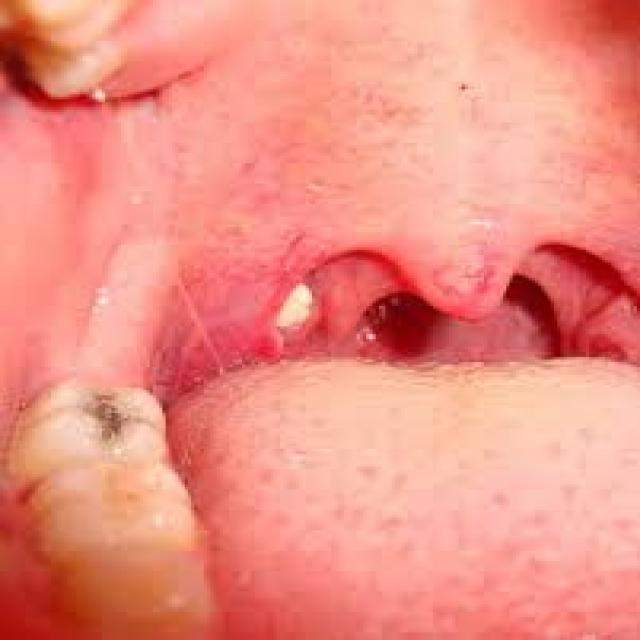processing_area: (0, 0, 637, 637)
ulcer-detection: (58, 172, 200, 380), (252, 253, 346, 357)
